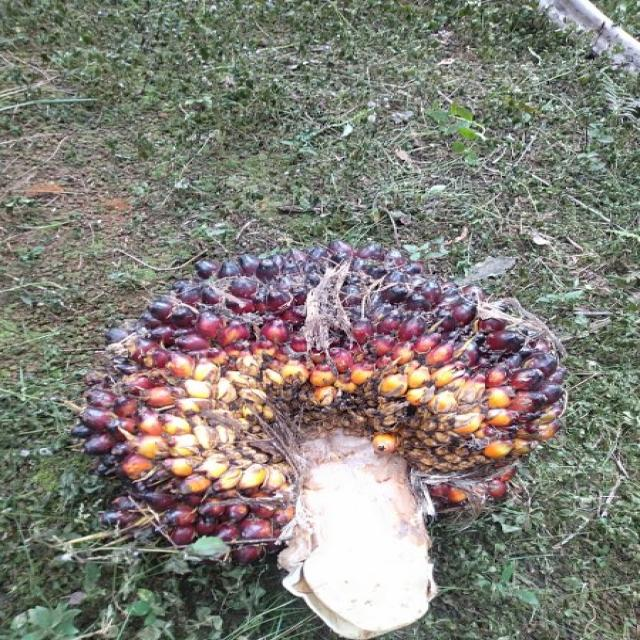fraksi 1: (22, 128, 590, 619)
